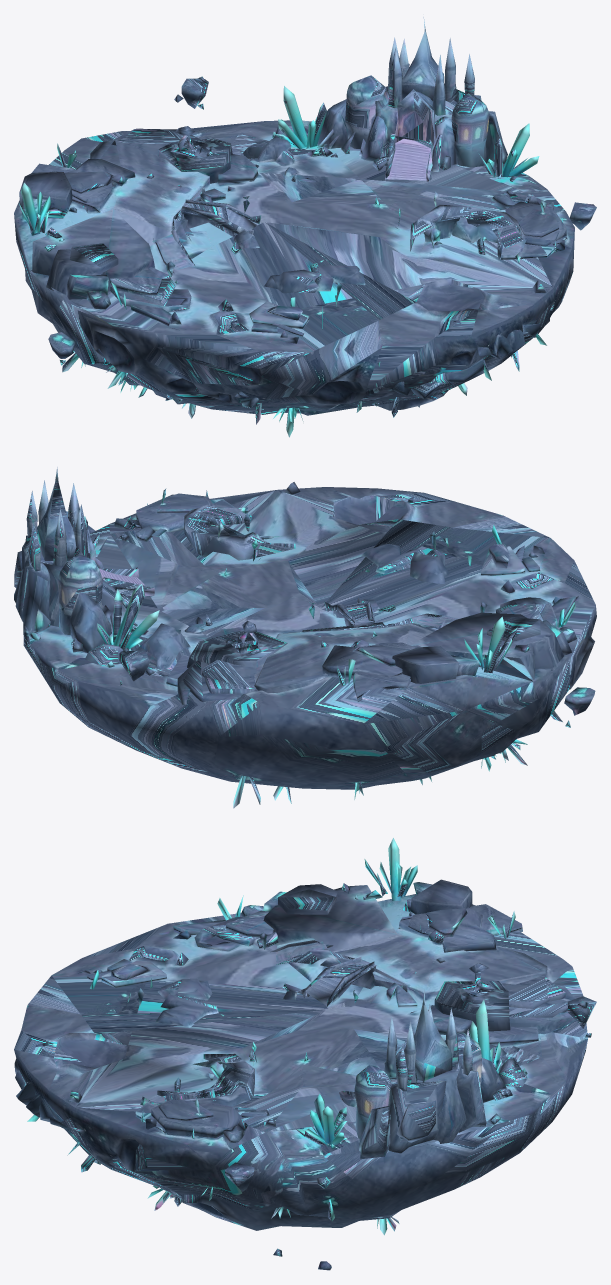
File: Glowing_Ice_Castle_Is.glb
3 renders of one model, top to bottom at view 1: azimuth 30°, elevation 25°; view 2: azimuth 150°, elevation 25°; view 3: azimuth 270°, elevation 25°, orthographic. The views are drawn at different scales.
Visible parts, largest first — view 1: Glowing_Ice_Castle_Is; view 2: Glowing_Ice_Castle_Is; view 3: Glowing_Ice_Castle_Is.
Part boxes in pixels (x1=…): Glowing_Ice_Castle_Is: x1=14, y1=17, x2=596, y2=437; Glowing_Ice_Castle_Is: x1=14, y1=467, x2=596, y2=808; Glowing_Ice_Castle_Is: x1=14, y1=838, x2=596, y2=1270.
Bounding box in the file's own units: 0.9497 × 0.4829 × 0.8945.
1 material, 1 textured.
